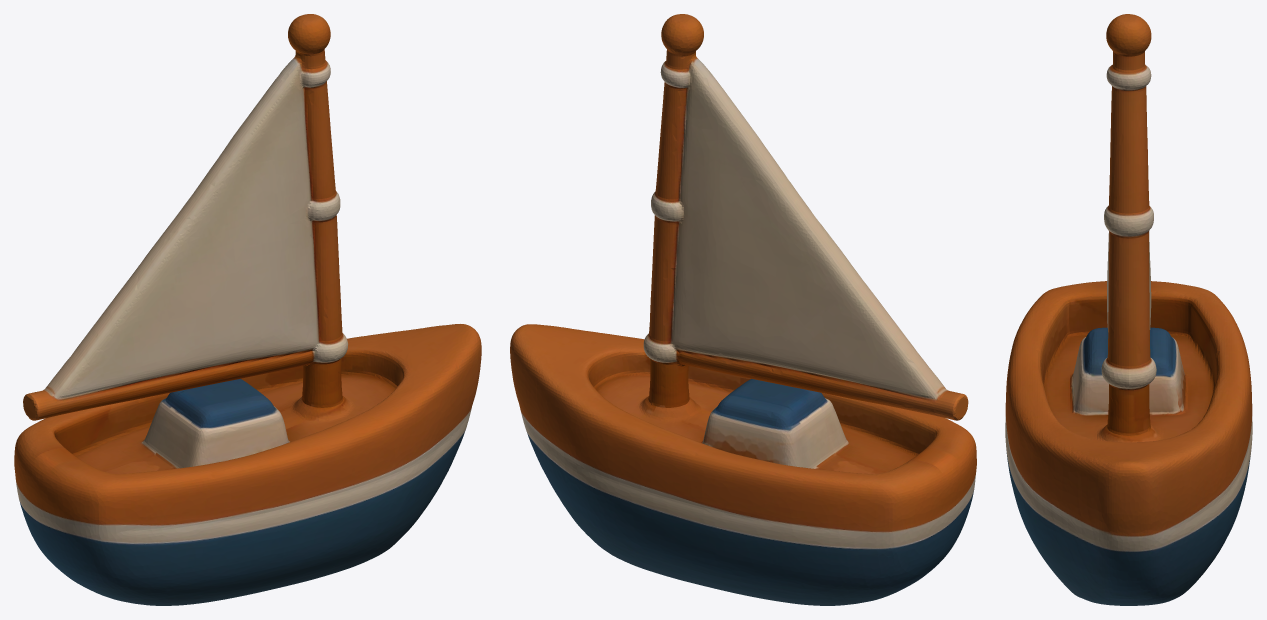
File: sailboat.glb
3 renders of one model, left to right at view 1: azimuth 30°, elevation 25°; view 2: azimuth 150°, elevation 25°; view 3: azimuth 270°, elevation 25°, orthographic. The views are drawn at different scales.
Parts seen in each view (by area): view 1: textured_mesh.obj; view 2: textured_mesh.obj; view 3: textured_mesh.obj.
Part boxes in pixels (left/top/right/bottom): textured_mesh.obj: left=14, top=14, right=481, bottom=605; textured_mesh.obj: left=510, top=14, right=976, bottom=605; textured_mesh.obj: left=1005, top=14, right=1252, bottom=605.
Size of the model in its own units: 1.72 by 1.99 by 0.7902.
Materials: 1 (1 with a texture image).
